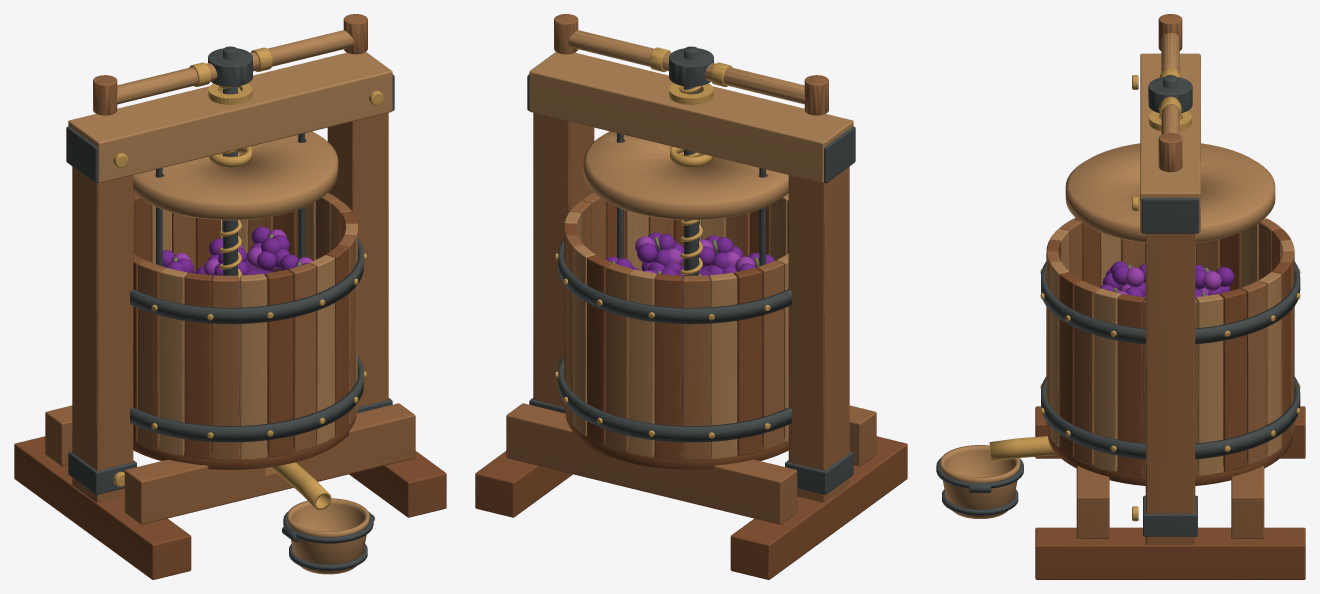
File: SmallGrapePress.fbx
3 views of the same model, side by side, from view 1: azimuth 30°, elevation 25°; view 2: azimuth 150°, elevation 25°; view 3: azimuth 270°, elevation 25° (orthographic). The views are drawn at different scales.
Parts seen in each view (by area): view 1: Press_Frame, Press_Container, Press_Plate, Press_Handle, Press_Bucket, Press_Grapes, Press_Screw, Press_OutputSpout; view 2: Press_Frame, Press_Container, Press_Plate, Press_Handle, Press_Grapes, Press_Screw; view 3: Press_Container, Press_Frame, Press_Plate, Press_Bucket, Press_Handle, Press_Grapes, Press_OutputSpout.
Part boxes in pixels (left/top/right/bottom): Press_Frame: left=14, top=52, right=446, bottom=579; Press_Container: left=130, top=193, right=366, bottom=469; Press_Plate: left=133, top=131, right=338, bottom=220; Press_Handle: left=93, top=14, right=367, bottom=115; Press_Bucket: left=282, top=498, right=374, bottom=574; Press_Grapes: left=155, top=226, right=312, bottom=415; Press_Screw: left=219, top=46, right=241, bottom=279; Press_OutputSpout: left=271, top=462, right=331, bottom=509; Press_Frame: left=475, top=52, right=907, bottom=579; Press_Container: left=555, top=192, right=791, bottom=469; Press_Plate: left=583, top=131, right=788, bottom=220; Press_Handle: left=554, top=14, right=828, bottom=115; Press_Grapes: left=605, top=232, right=774, bottom=415; Press_Screw: left=680, top=46, right=702, bottom=275; Press_Container: left=1040, top=217, right=1300, bottom=485; Press_Frame: left=1035, top=53, right=1305, bottom=579; Press_Plate: left=1065, top=143, right=1275, bottom=242; Press_Bucket: left=936, top=445, right=1023, bottom=518; Press_Handle: left=1148, top=14, right=1192, bottom=172; Press_Grapes: left=1100, top=261, right=1234, bottom=299; Press_OutputSpout: left=989, top=436, right=1056, bottom=461.
Size of the model in its own units: 1.22 by 1.73 by 1.34.
